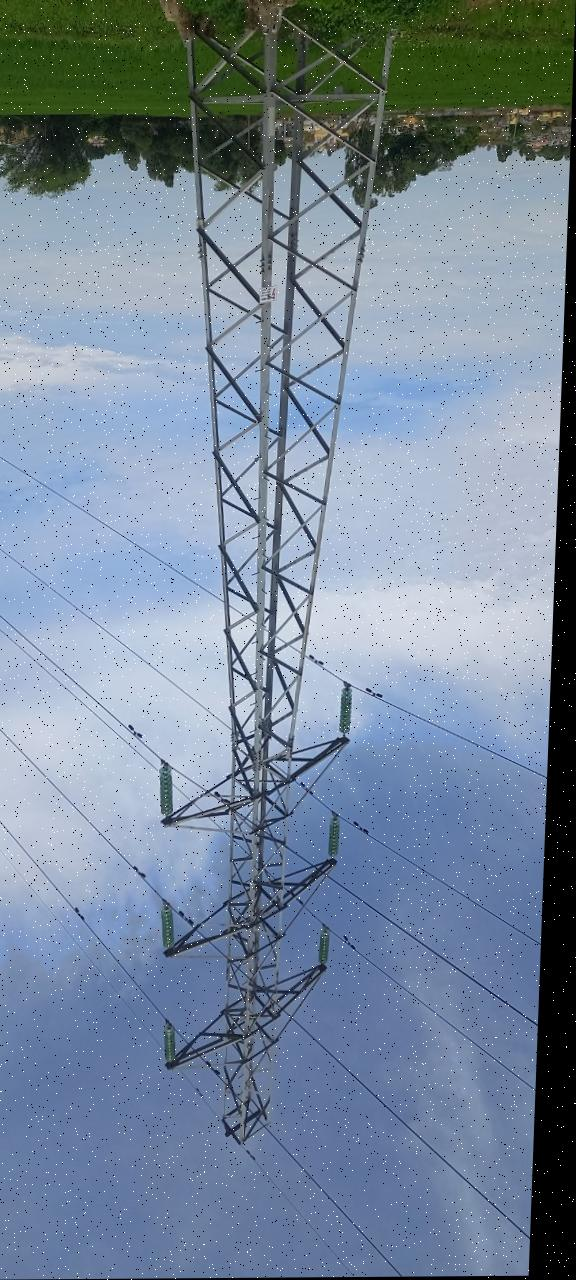tower: (138, 25, 387, 1177)
